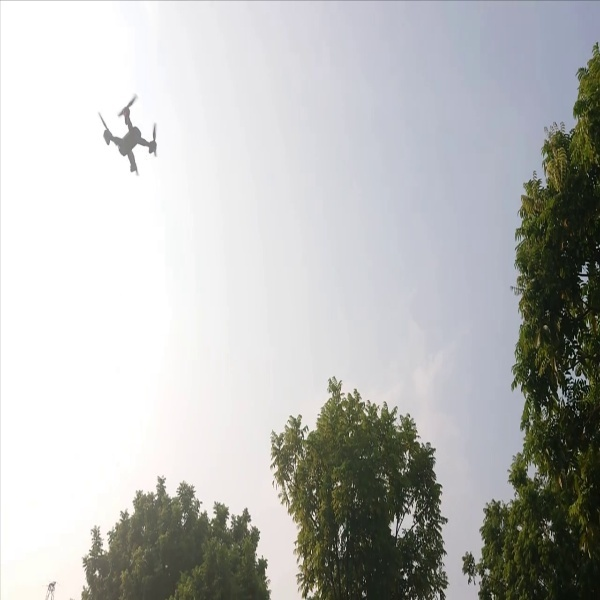drone: (98, 92, 167, 181)
